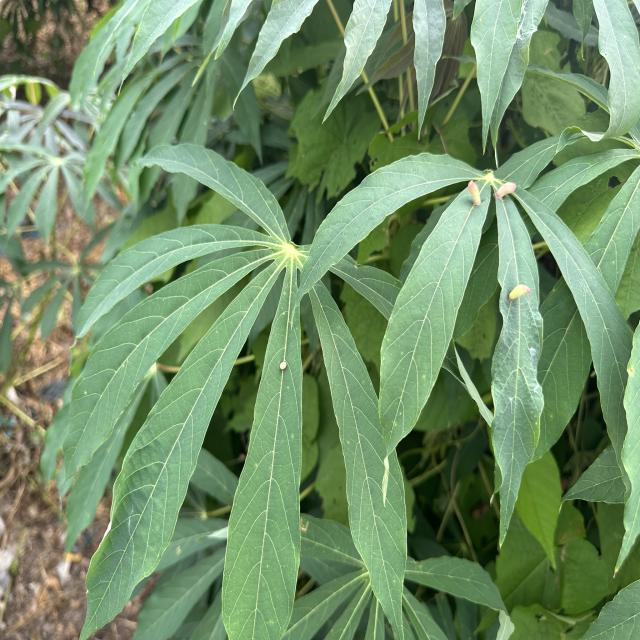Mosca: (463, 173, 521, 204), (494, 280, 541, 306), (267, 345, 294, 384)
